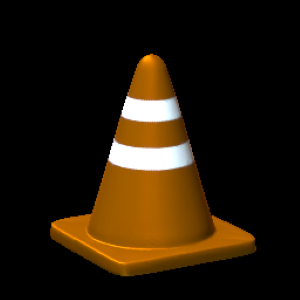traffic cone: (49, 54, 257, 277)
